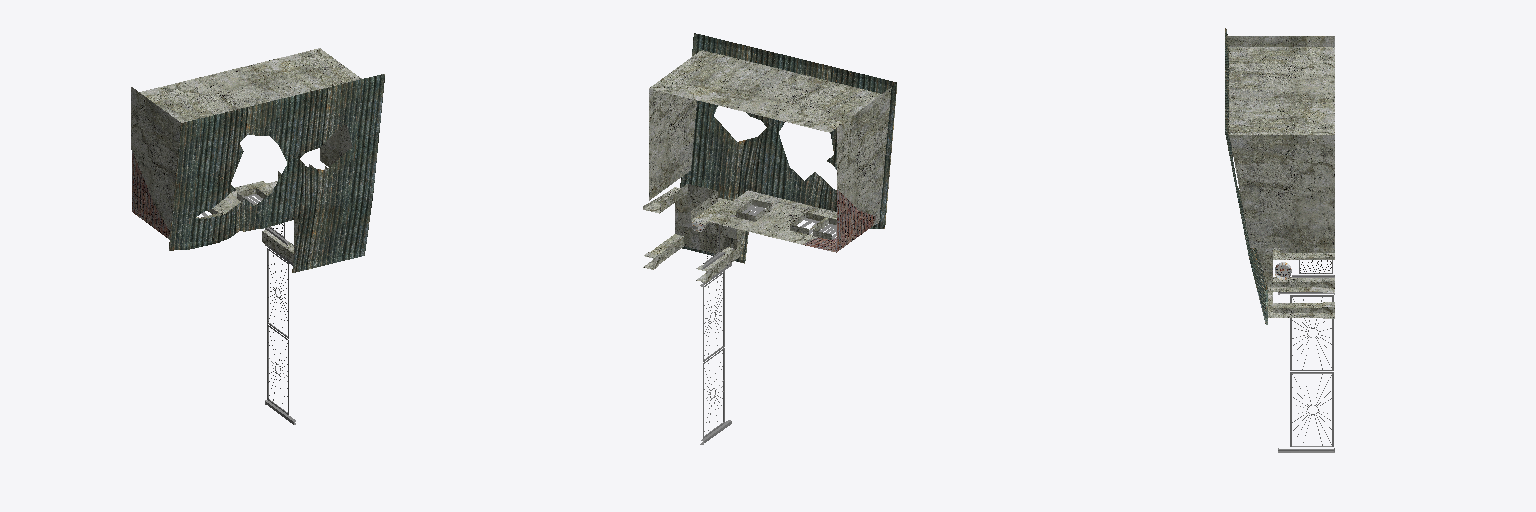
3 renders of one model, left to right at view 1: azimuth 30°, elevation 25°; view 2: azimuth 150°, elevation 25°; view 3: azimuth 270°, elevation 25°, orthographic.
Parts seen in each view (by area): view 1: LOD1; view 2: LOD1; view 3: LOD1.
Boxes of the visible parts, <box> form: LOD1: <box>131,48,384,424</box>; LOD1: <box>643,33,896,444</box>; LOD1: <box>1225,28,1334,452</box>.
Size of the model in its own units: 13.77 by 23.02 by 6.48.
Materials: 8 (6 with a texture image).